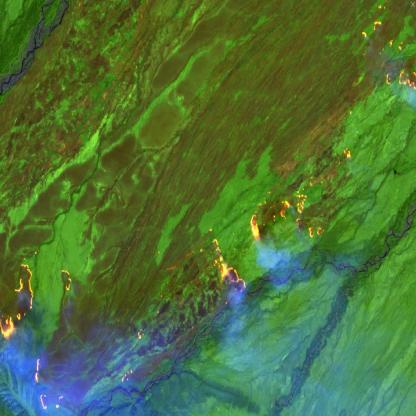fire: (250, 146, 358, 240), (359, 0, 416, 96), (198, 229, 247, 305), (0, 256, 39, 344), (31, 357, 81, 416), (57, 265, 78, 299)
